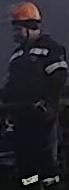helmet: (7, 0, 42, 26)
vest: (6, 33, 68, 111)
